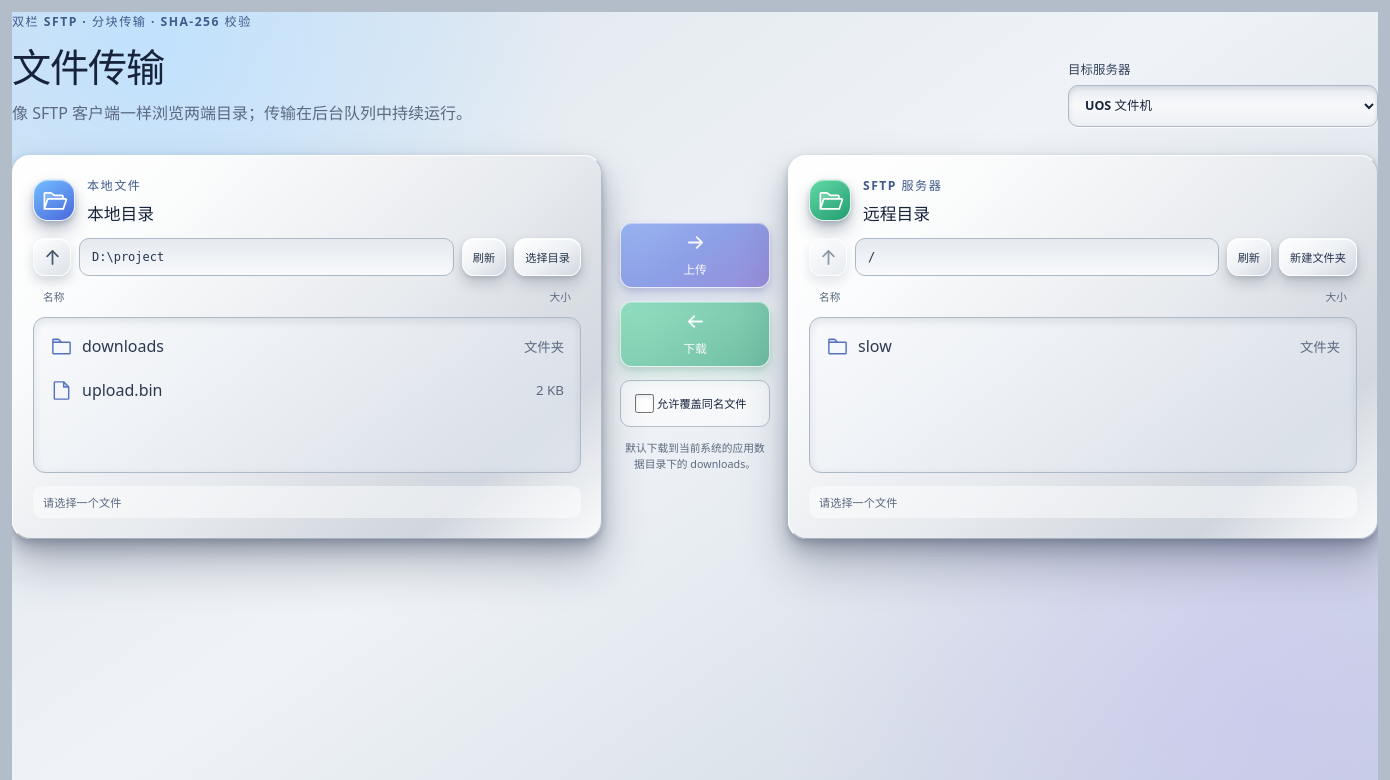
it: FileTransferPage › keeps the latest path visible when an older refresh finishes late
The width and height of the screenshot is (1390, 780).
Click the button with aria-label "打开远程目录 slow": (875, 346) top-left (816, 324), bottom-right (1350, 368)
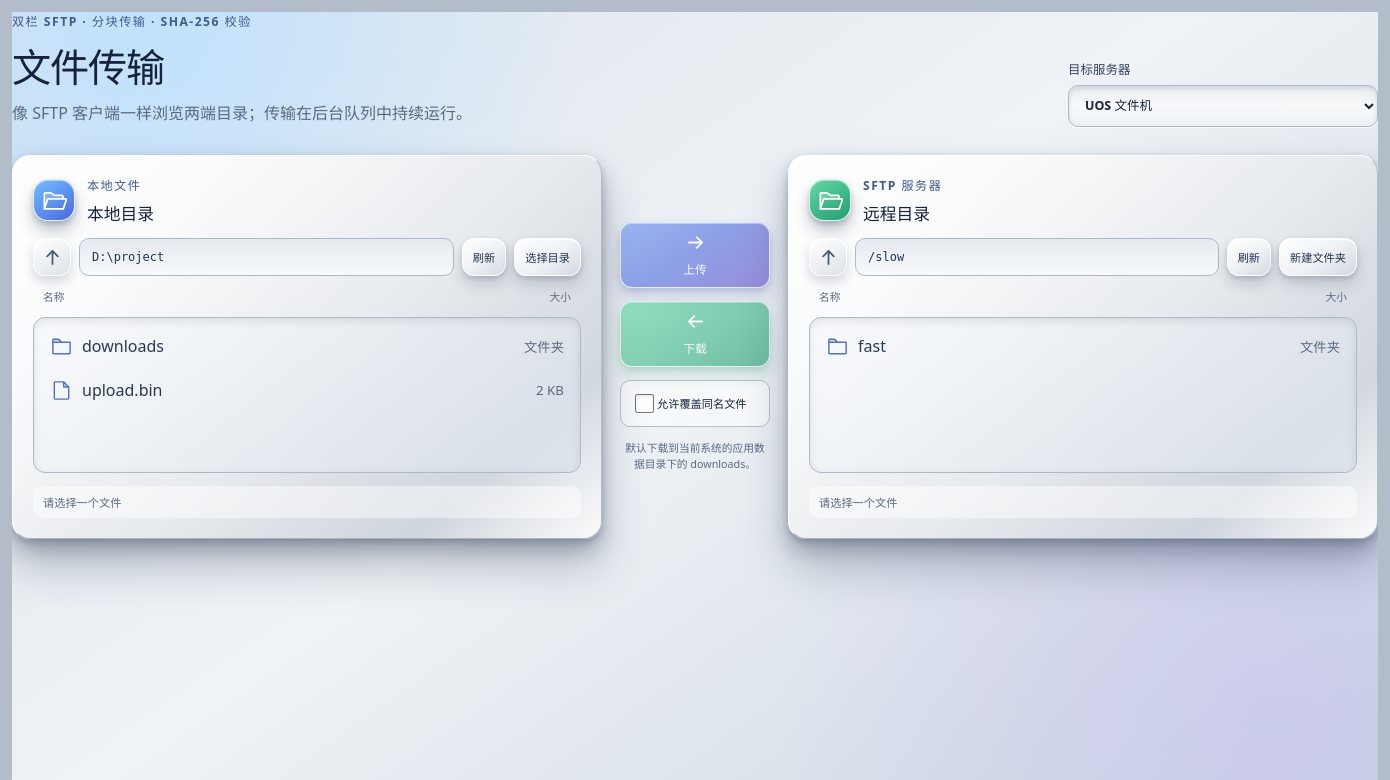
Result: the button with aria-label "打开远程目录 fast" is shown at top-left (816, 324), bottom-right (1350, 368)
Click the button "刷新" in the row of "/slow": (1249, 257) top-left (1227, 238), bottom-right (1271, 276)
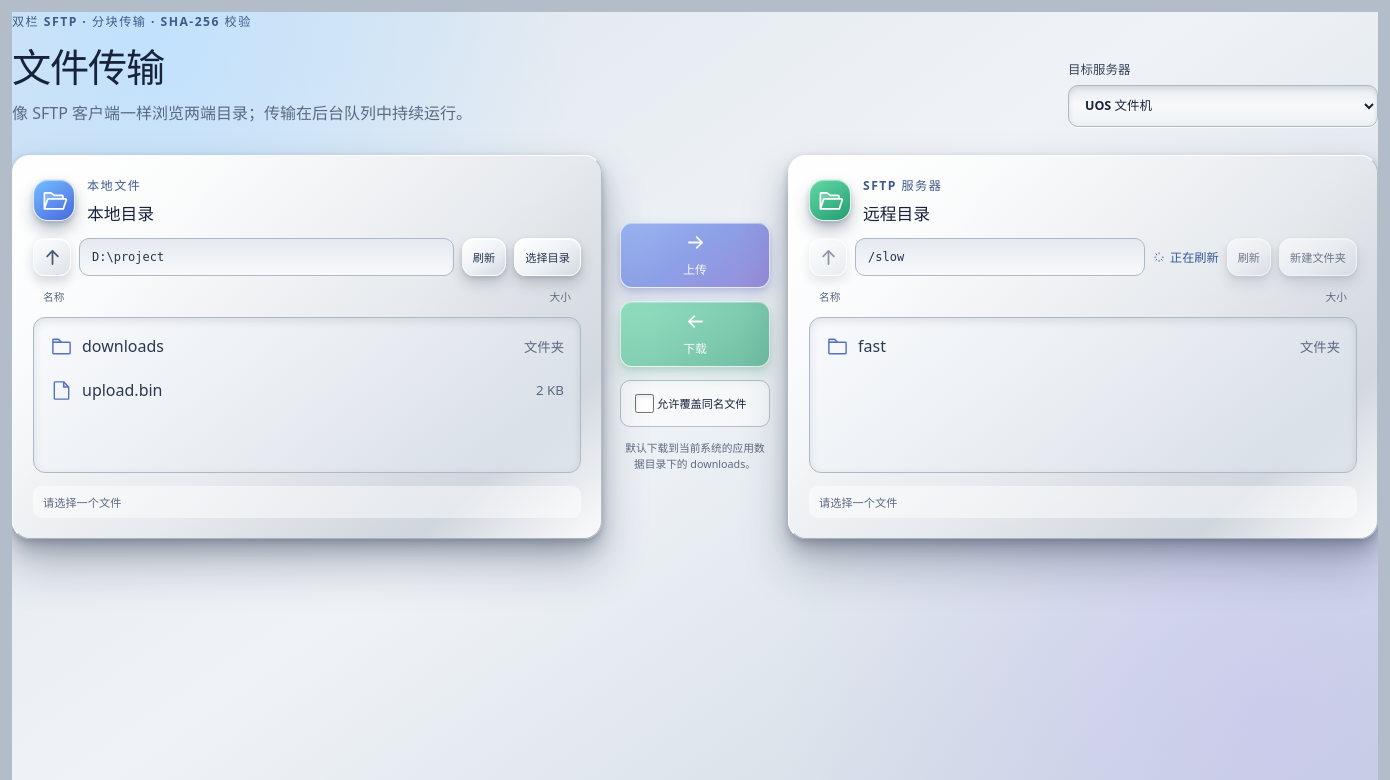
Click the button with aria-label "打开远程目录 fast": (1320, 347) top-left (816, 324), bottom-right (1350, 368)
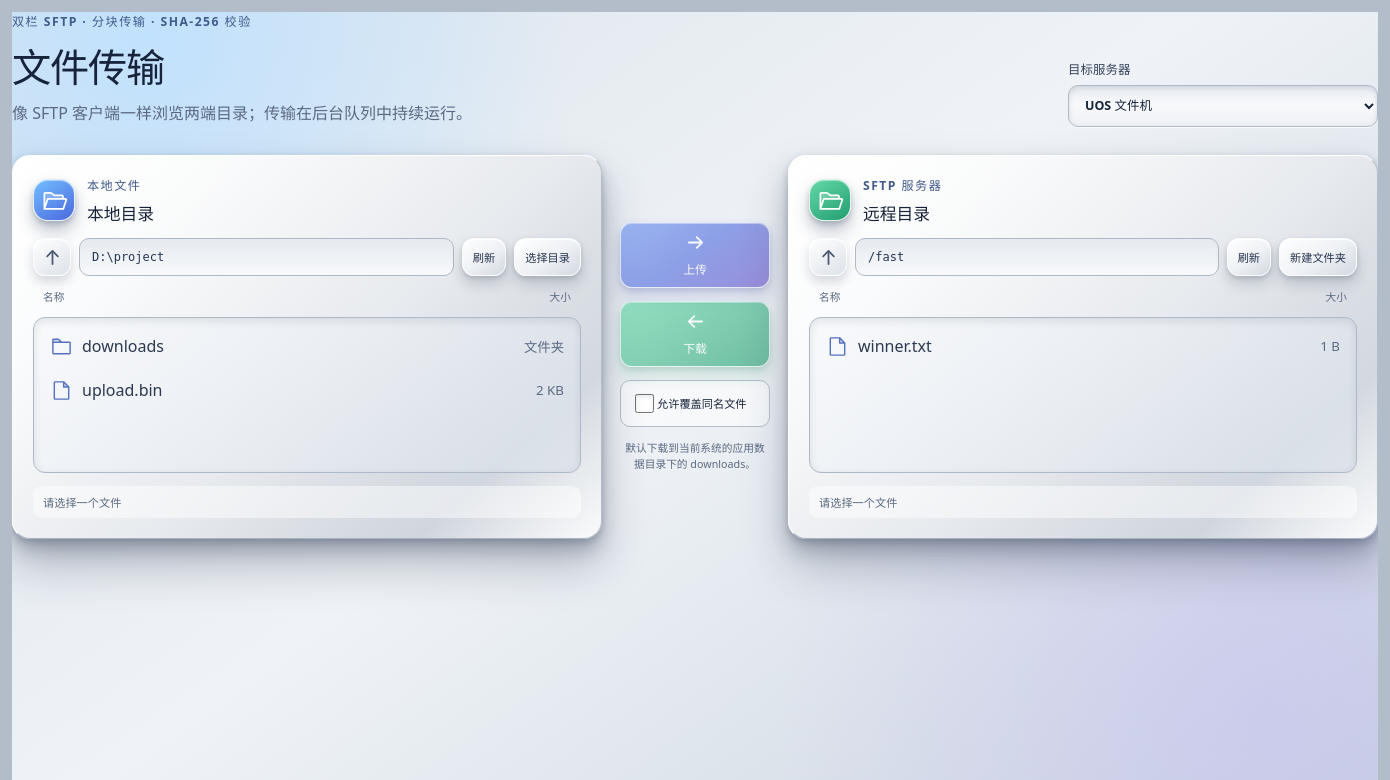
Result: the text "/fast" is shown at top-left (855, 238), bottom-right (1219, 276)
Result: the button with aria-label "选择远程文件 winner.txt" is shown at top-left (816, 324), bottom-right (1350, 368)
